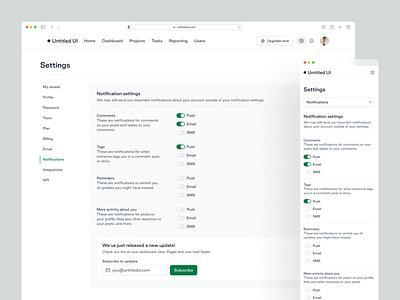button: (259, 37, 295, 47), (171, 265, 199, 277)
dropdown: (304, 99, 377, 108)
icon: (299, 39, 306, 46), (309, 38, 315, 46), (371, 70, 377, 77)
input: (103, 265, 170, 277)
switch: (175, 129, 187, 137), (175, 183, 187, 191), (175, 193, 187, 200), (176, 224, 188, 231), (176, 162, 187, 169), (176, 207, 187, 214), (176, 145, 188, 151), (175, 175, 187, 181), (304, 154, 313, 162), (177, 121, 187, 128), (176, 152, 186, 159), (303, 162, 313, 169), (302, 250, 312, 257), (303, 258, 313, 265), (176, 114, 187, 120), (176, 217, 187, 223), (303, 215, 314, 221), (303, 170, 312, 176), (303, 206, 312, 212), (303, 244, 312, 250), (303, 288, 312, 294), (303, 295, 313, 300), (304, 200, 313, 205)
